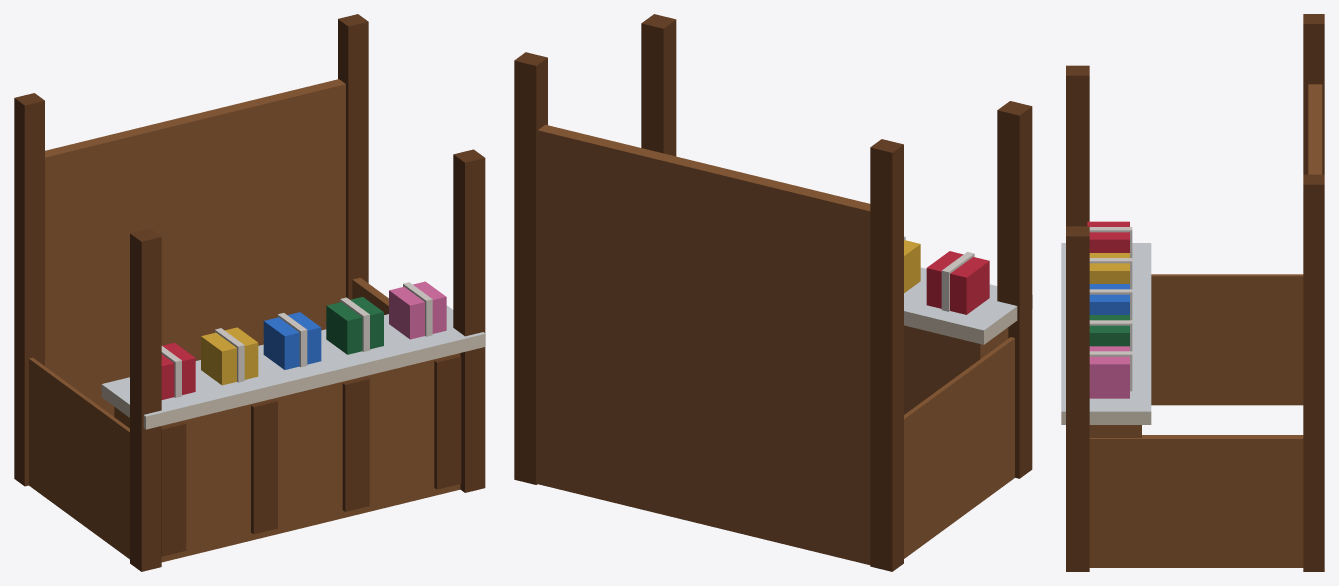
The model's file is Stall_Blue_Stall.glb.
3 renders of one model, left to right at view 1: azimuth 30°, elevation 25°; view 2: azimuth 150°, elevation 25°; view 3: azimuth 270°, elevation 25°, orthographic. The views are drawn at different scales.
Visible parts, largest first — view 1: Stall_Blue_Stall; view 2: Stall_Blue_Stall; view 3: Stall_Blue_Stall.
Part boxes in pixels (x1,y1,x2,y2): Stall_Blue_Stall: [14, 14, 485, 571]; Stall_Blue_Stall: [514, 14, 1032, 571]; Stall_Blue_Stall: [1061, 14, 1324, 571].
Size of the model in its own units: 8.5 by 9 by 5.55.
